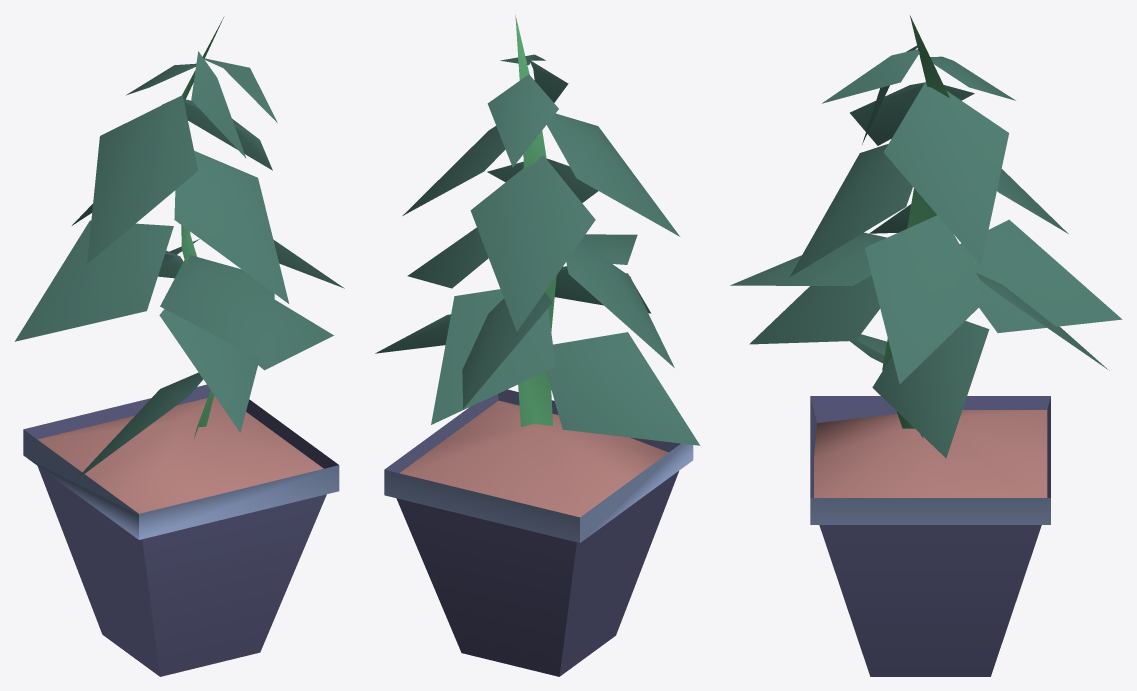
File: plant.gltf
3 views of the same model, side by side, from view 1: azimuth 30°, elevation 25°; view 2: azimuth 150°, elevation 25°; view 3: azimuth 270°, elevation 25° (orthographic). The views are drawn at different scales.
Parts seen in each view (by area): view 1: plant; view 2: plant; view 3: plant.
Part boxes in pixels (x1=…): plant: x1=15, y1=16, x2=344, y2=676; plant: x1=375, y1=15, x2=700, y2=676; plant: x1=730, y1=15, x2=1122, y2=676.
Bounding box in the file's own units: 0.7831 × 1.5 × 0.8167.
1 material, 1 textured.
